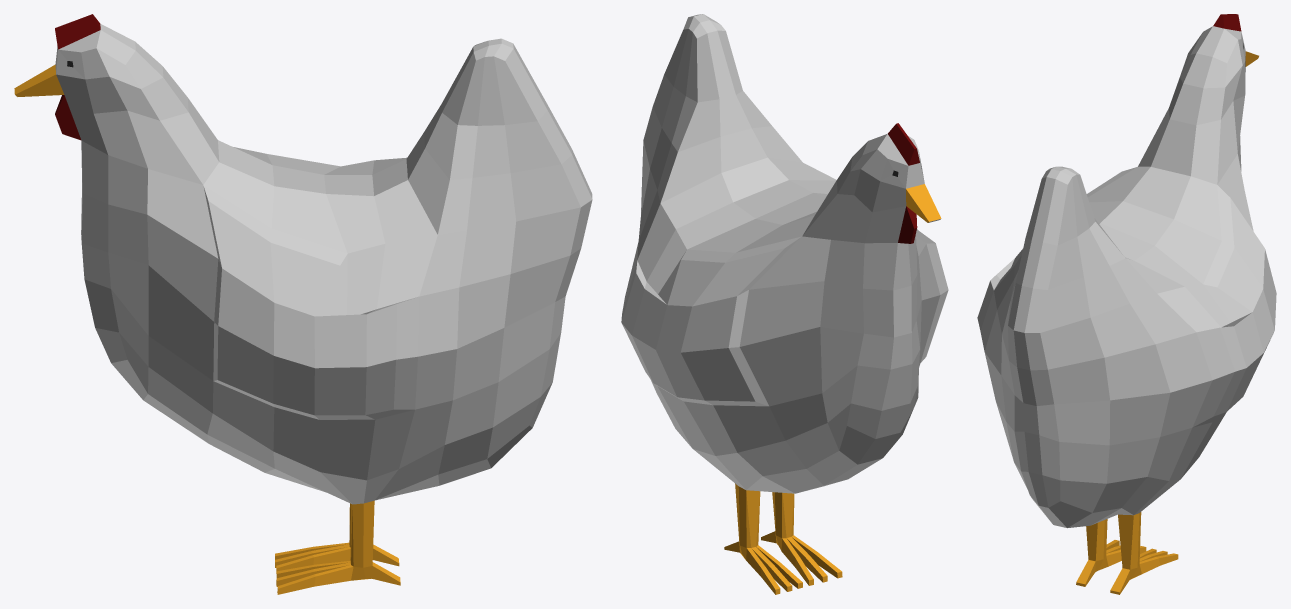
The model's file is chicken.dae.
The picture shows the model from 3 angles, left to right: view 1: azimuth 30°, elevation 25°; view 2: azimuth 150°, elevation 25°; view 3: azimuth 270°, elevation 25°; orthographic projection. The views are drawn at different scales.
Visible parts, largest first — view 1: Chicken; view 2: Chicken; view 3: Chicken.
Boxes of the visible parts, x1,y1,x2,y2 form: Chicken: (14,14,592,594); Chicken: (621,14,948,594); Chicken: (977,14,1276,594).
Bounding box in the file's own units: 0.3314 × 0.4005 × 0.2264.
